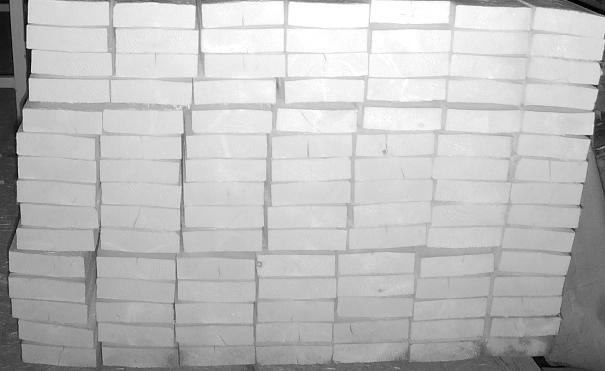Wood-Plank: (17, 130, 94, 160), (26, 24, 106, 52), (534, 7, 605, 38), (8, 250, 84, 278), (113, 2, 194, 28), (8, 275, 85, 302), (22, 108, 100, 134), (17, 156, 95, 182), (111, 80, 192, 105), (28, 77, 109, 102), (17, 180, 94, 206), (16, 227, 96, 252), (272, 181, 351, 206), (529, 57, 602, 84), (202, 28, 284, 52), (31, 52, 112, 76), (450, 79, 524, 105), (18, 322, 92, 348), (28, 0, 108, 24), (204, 2, 284, 26), (103, 110, 183, 134), (192, 109, 272, 133), (101, 184, 181, 208), (534, 34, 605, 61), (528, 83, 599, 110), (519, 134, 592, 160), (116, 29, 198, 52), (101, 206, 179, 230), (20, 204, 98, 228), (101, 229, 178, 253), (289, 3, 369, 26), (205, 54, 285, 77), (288, 53, 368, 76), (186, 135, 266, 158), (100, 135, 180, 158), (100, 161, 180, 184), (184, 183, 264, 206), (457, 4, 530, 29), (355, 203, 431, 227), (273, 135, 352, 158), (96, 257, 175, 280), (500, 251, 572, 276), (11, 300, 86, 324), (21, 344, 96, 368), (273, 158, 351, 181), (184, 230, 262, 253), (116, 54, 197, 76), (195, 81, 276, 103), (335, 320, 409, 344), (504, 228, 575, 253), (356, 157, 433, 180), (258, 255, 335, 278), (178, 257, 255, 280), (186, 160, 266, 182), (516, 158, 589, 182), (339, 252, 415, 275), (373, 30, 452, 52), (288, 30, 367, 52), (286, 80, 365, 102), (278, 110, 357, 132), (185, 206, 264, 228), (435, 157, 510, 180), (371, 54, 449, 76), (364, 108, 442, 130), (97, 280, 174, 302), (509, 205, 582, 228), (422, 254, 495, 277), (351, 227, 427, 249), (98, 324, 174, 346), (372, 1, 451, 22), (269, 207, 347, 228), (452, 56, 526, 78), (455, 31, 528, 53), (437, 180, 510, 202), (178, 281, 254, 302), (525, 111, 594, 134), (433, 206, 508, 227), (339, 276, 414, 297), (96, 304, 174, 324), (369, 80, 446, 100), (358, 136, 435, 156), (356, 182, 433, 202), (259, 280, 336, 300), (269, 230, 346, 250), (176, 304, 253, 324), (176, 326, 253, 346), (418, 278, 491, 299), (102, 348, 178, 368), (334, 344, 409, 364), (258, 302, 333, 322), (513, 183, 584, 204), (448, 112, 522, 132), (439, 136, 513, 156), (415, 300, 488, 320), (256, 346, 332, 365), (257, 326, 333, 345), (413, 320, 485, 340), (430, 228, 502, 248), (180, 348, 255, 367), (339, 300, 413, 318), (496, 277, 564, 296), (494, 297, 562, 316), (493, 320, 562, 338), (488, 337, 552, 356), (411, 344, 478, 362)
